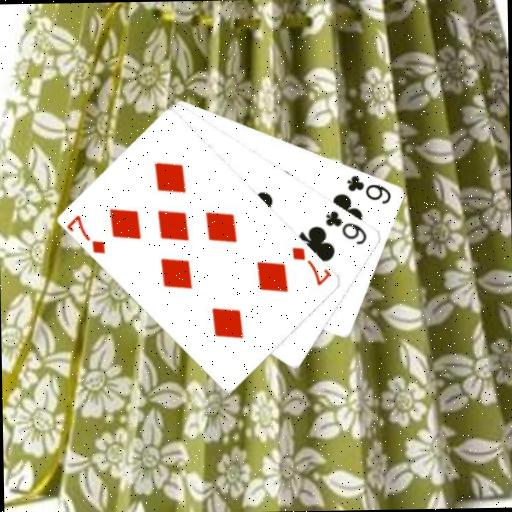6C: (322, 207, 369, 248), (345, 171, 394, 206)
7D: (289, 243, 332, 289), (65, 211, 108, 256)
